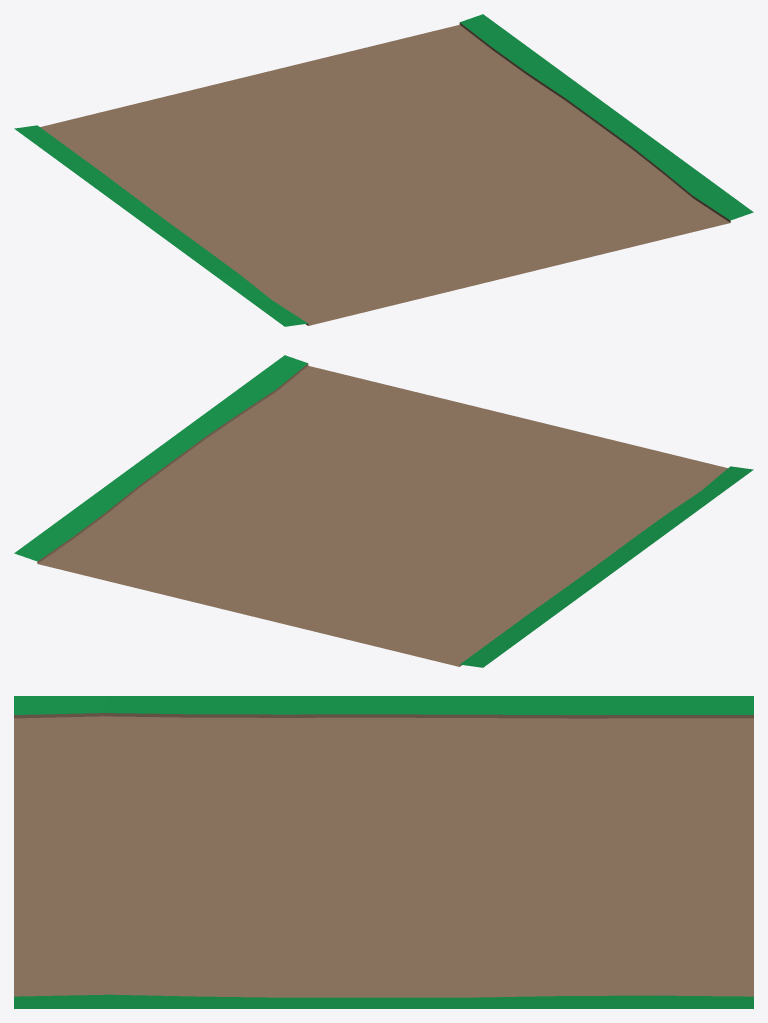
The model's file is Gravel_Straight.fbx.
3 renders of one model, top to bottom at view 1: azimuth 30°, elevation 25°; view 2: azimuth 150°, elevation 25°; view 3: azimuth 270°, elevation 25°, orthographic. The views are drawn at different scales.
Visible parts, largest first — view 1: Plane.001; view 2: Plane.001; view 3: Plane.001.
Boxes of the visible parts, x1,y1,x2,y2 form: Plane.001: [14, 14, 753, 326]; Plane.001: [14, 355, 753, 667]; Plane.001: [14, 696, 753, 1008].
Size of the model in its own units: 20 by 0.2 by 20.
